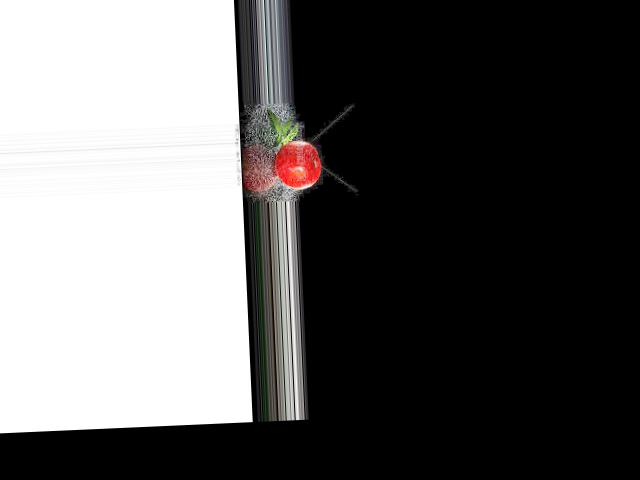tomato: (274, 139, 322, 189)
